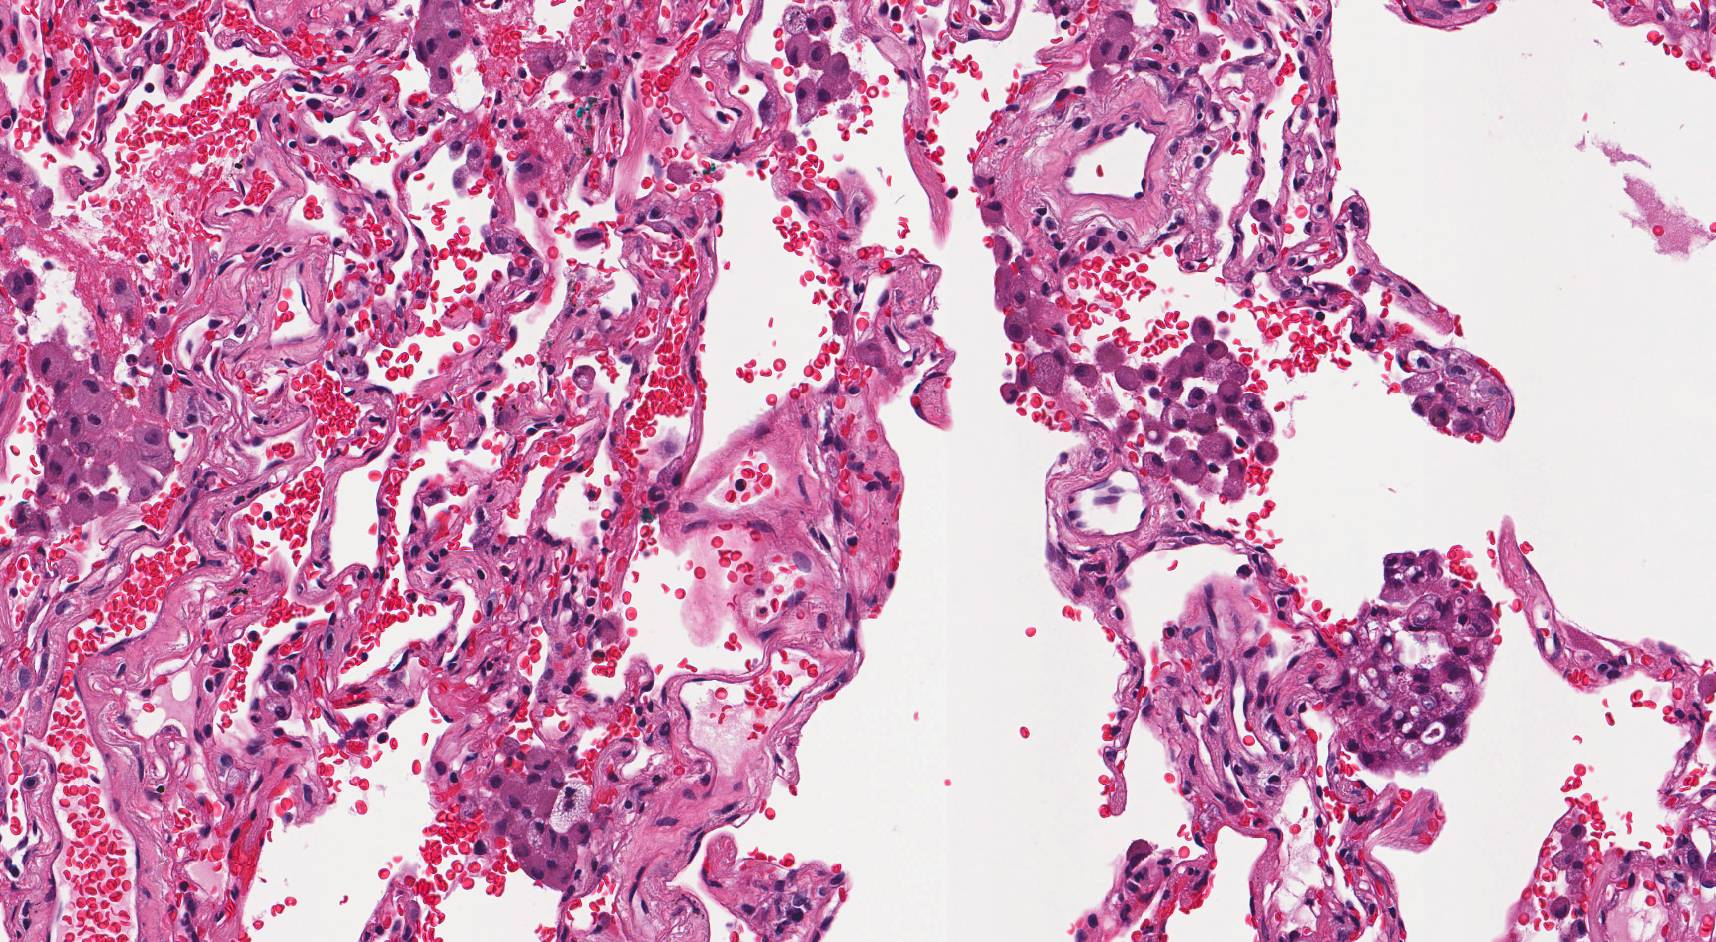stas: (1325, 549, 1499, 772)
